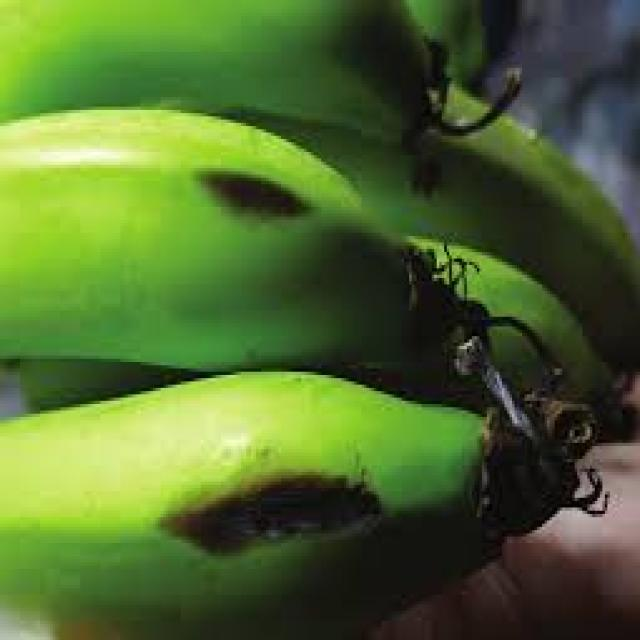banana: (3, 5, 630, 582)
